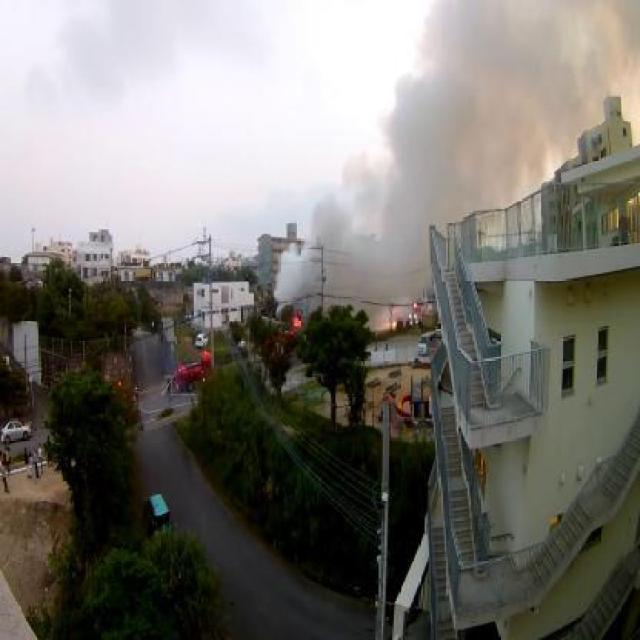Fire: (292, 314, 303, 329)
